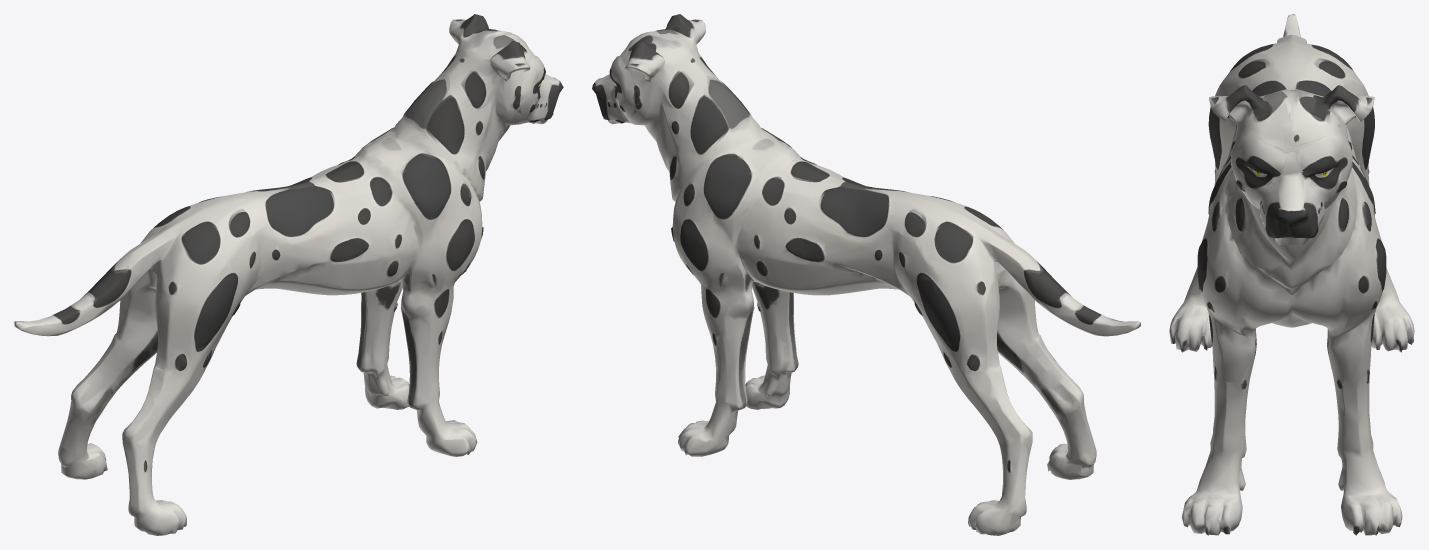
Rendered from hogen.glb.
The picture shows the model from 3 angles, left to right: view 1: azimuth 30°, elevation 25°; view 2: azimuth 150°, elevation 25°; view 3: azimuth 270°, elevation 25°; orthographic projection. The views are drawn at different scales.
Visible parts, largest first — view 1: tripo_node_8476359e-5ad7-443c-9542-b560af49a8d7; view 2: tripo_node_8476359e-5ad7-443c-9542-b560af49a8d7; view 3: tripo_node_8476359e-5ad7-443c-9542-b560af49a8d7.
Boxes of the visible parts, bbox=[...] form: tripo_node_8476359e-5ad7-443c-9542-b560af49a8d7: bbox=[14, 14, 563, 535]; tripo_node_8476359e-5ad7-443c-9542-b560af49a8d7: bbox=[592, 14, 1140, 535]; tripo_node_8476359e-5ad7-443c-9542-b560af49a8d7: bbox=[1169, 14, 1414, 535].
Bounding box in the file's own units: 0.9997 × 0.6725 × 0.306.
Materials: 1 (1 with a texture image).
